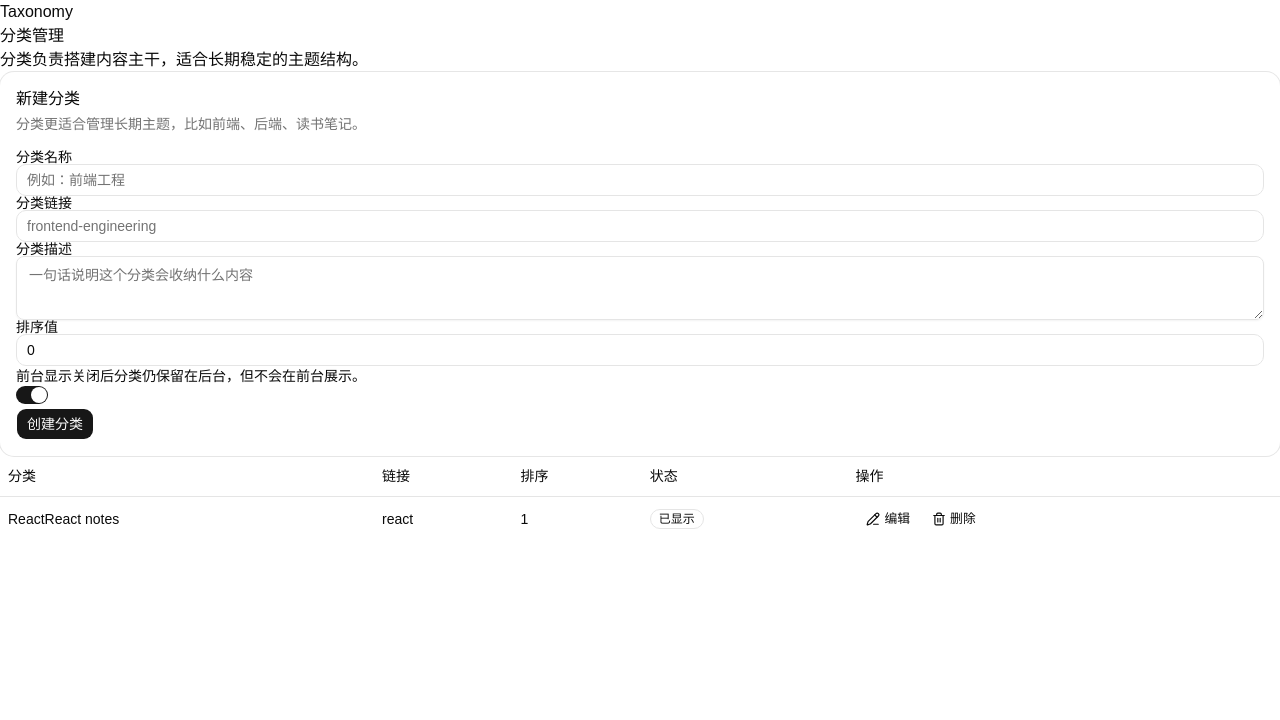
Test: CategoryPage › deletes a category after confirmation
Expected: the text "React" is shown, [8,511,45,527]
Click the button "删除" at (954, 519), box [921,505,987,533]
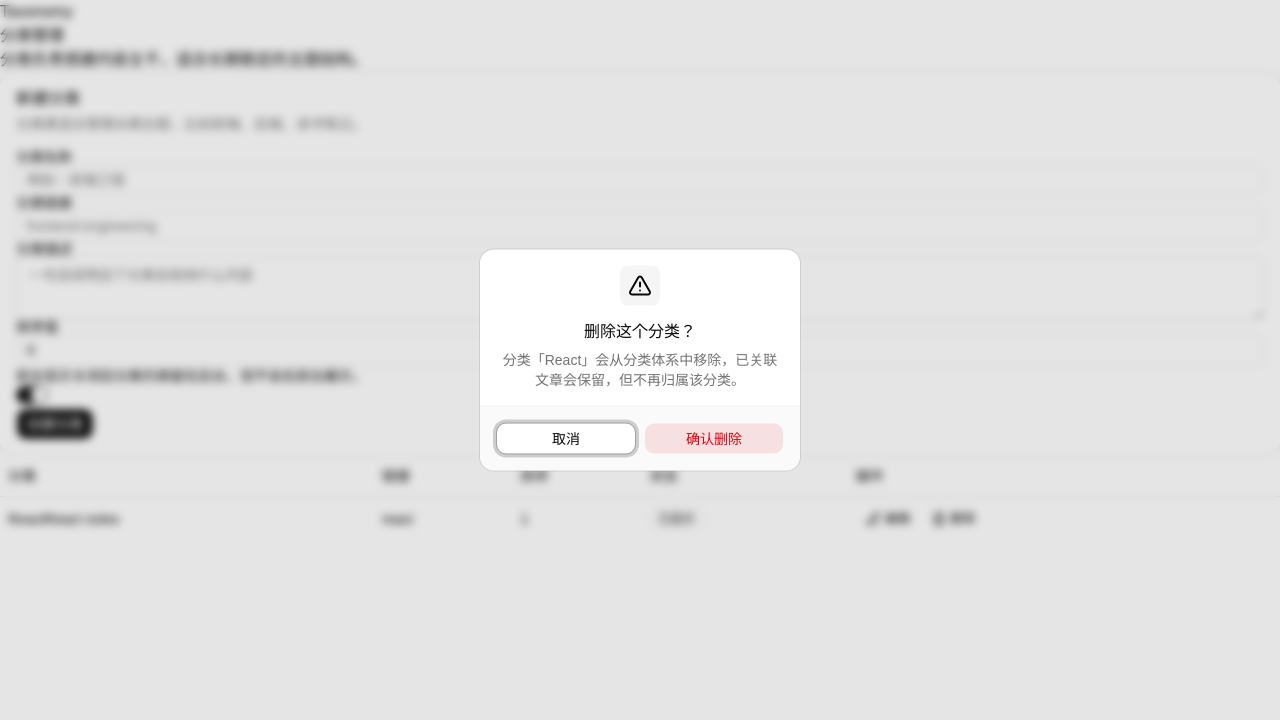
Click the button "确认删除" at (714, 438), box [644,422,784,454]
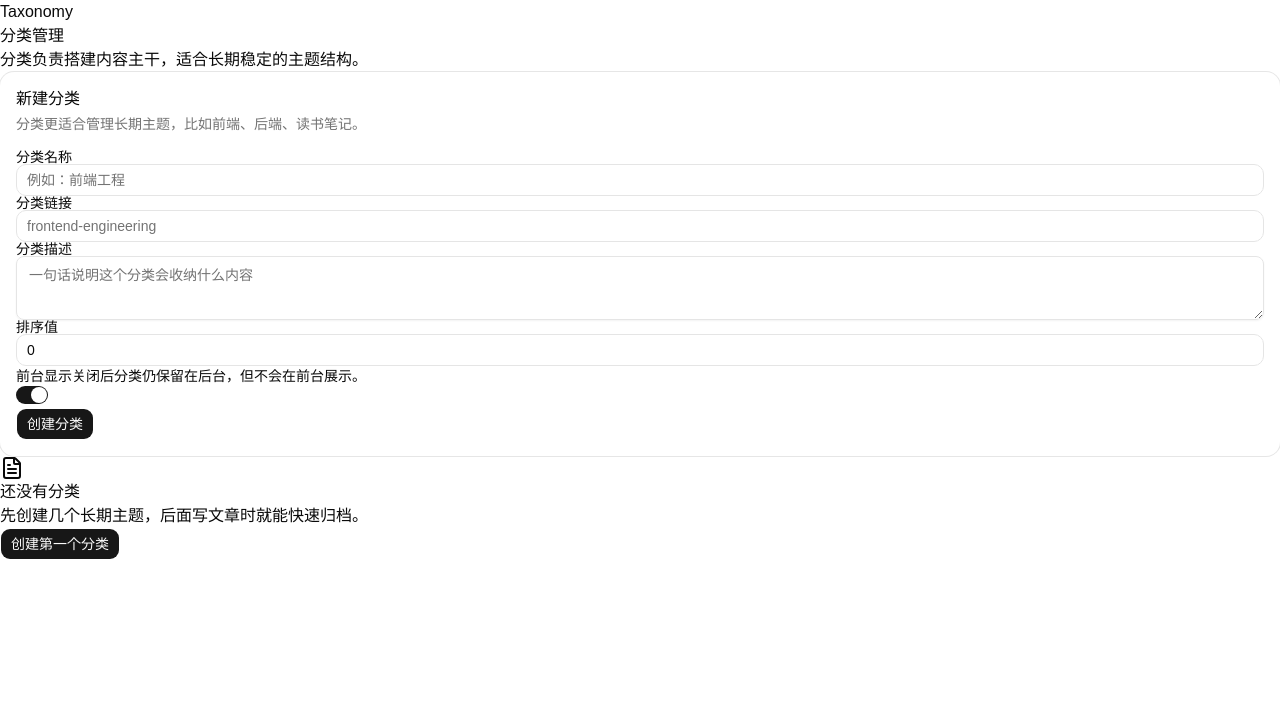
Result: the text "React" is gone
